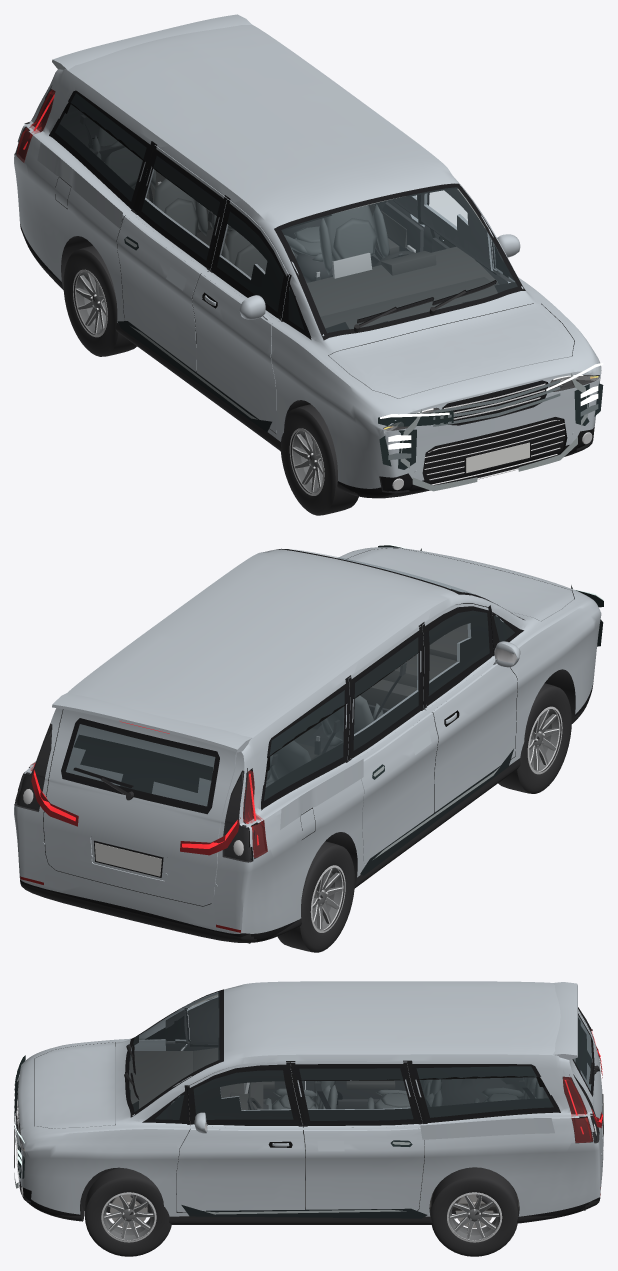
Rendered from compact-mpv.glb.
The picture shows the model from 3 angles, top to bottom: view 1: azimuth 30°, elevation 25°; view 2: azimuth 150°, elevation 25°; view 3: azimuth 270°, elevation 25°; orthographic projection. The views are drawn at different scales.
Visible parts, largest first — view 1: paint_body, glass, trim_gloss, dash_soft, panel_gap_body, seat_fabric, trim_gloss_body, tire (×2), glass_privacy, interior_body, interior, rim_paint (×2) (+12 smaller); view 2: paint_body, panel_gap_body, glass_privacy, glass, trim_gloss, tire (×2), trim_matte_body, lamp_housing_body, dash_soft, rim_paint (×2), trim_gloss_body, seat_fabric (+7 smaller); view 3: paint_body, glass, panel_gap_body, tire (×2), trim_gloss, glass_privacy, dash_soft, interior, trim_matte_body, seat_fabric, rim_paint (×2), trim_gloss_body (+6 smaller).
Part boxes in pixels (bbox=[...]): paint_body: bbox=[14, 14, 601, 488]; glass: bbox=[142, 156, 517, 332]; trim_gloss: bbox=[49, 90, 564, 485]; dash_soft: bbox=[306, 204, 497, 329]; panel_gap_body: bbox=[55, 93, 574, 433]; seat_fabric: bbox=[93, 127, 389, 277]; trim_gloss_body: bbox=[20, 141, 594, 497]; tire (×2): bbox=[63, 245, 358, 515]; glass_privacy: bbox=[55, 93, 146, 201]; interior_body: bbox=[60, 104, 507, 284]; interior: bbox=[17, 85, 513, 284]; rim_paint (×2): bbox=[76, 272, 322, 493]; paint_body: bbox=[14, 547, 601, 933]; panel_gap_body: bbox=[43, 548, 574, 906]; glass_privacy: bbox=[66, 690, 344, 806]; glass: bbox=[288, 549, 514, 750]; trim_gloss: bbox=[61, 548, 524, 877]; tire (×2): bbox=[277, 683, 571, 952]; trim_matte_body: bbox=[20, 669, 586, 942]; lamp_housing_body: bbox=[14, 723, 267, 862]; dash_soft: bbox=[298, 624, 468, 759]; rim_paint (×2): bbox=[312, 709, 559, 930]; trim_gloss_body: bbox=[20, 603, 593, 941]; seat_fabric: bbox=[266, 695, 383, 786]; paint_body: bbox=[16, 981, 603, 1216]; glass: bbox=[129, 991, 413, 1120]; panel_gap_body: bbox=[34, 991, 603, 1212]; tire (×2): bbox=[84, 1167, 518, 1256]; trim_gloss: bbox=[14, 989, 603, 1168]; glass_privacy: bbox=[416, 1015, 591, 1117]; dash_soft: bbox=[129, 1048, 395, 1133]; interior: bbox=[165, 997, 594, 1189]; trim_matte_body: bbox=[55, 1124, 599, 1224]; seat_fabric: bbox=[265, 1077, 543, 1158]; rim_paint (×2): bbox=[103, 1194, 500, 1240]; trim_gloss_body: bbox=[16, 1008, 600, 1216].
Bounding box in the file's own units: 2.02 × 1.72 × 4.65.
